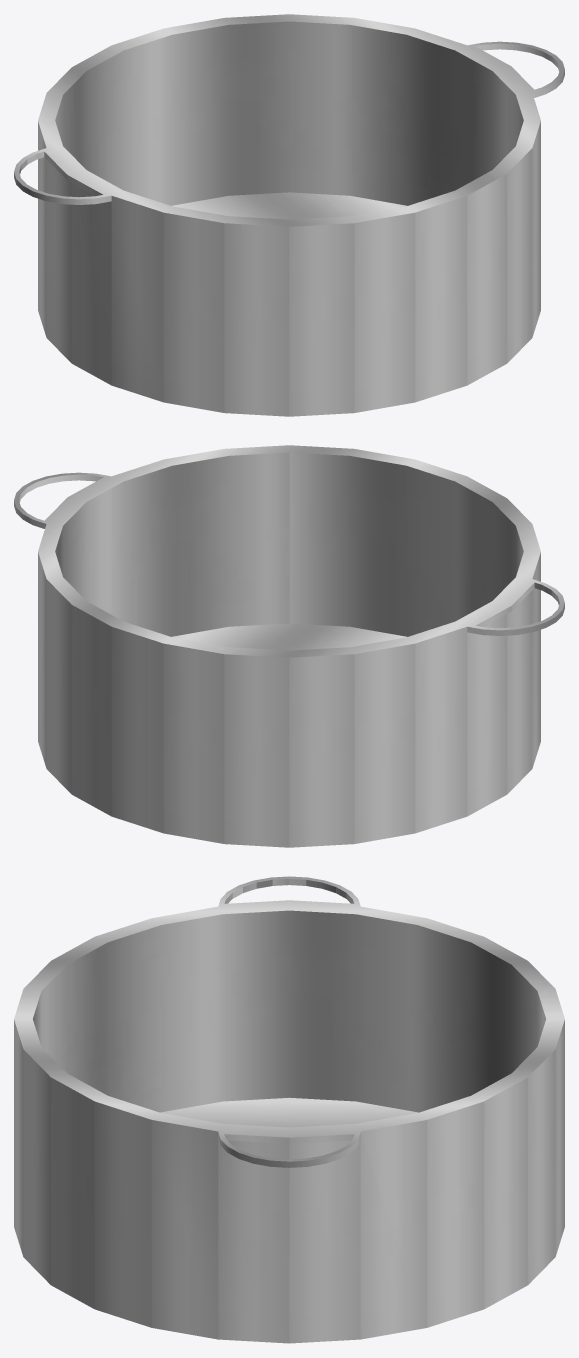
Rendered from pot.min.dae.
The picture shows the model from 3 angles, top to bottom: view 1: azimuth 30°, elevation 25°; view 2: azimuth 150°, elevation 25°; view 3: azimuth 270°, elevation 25°; orthographic projection. The views are drawn at different scales.
Parts seen in each view (by area): view 1: SketchUp (×4); view 2: SketchUp (×4); view 3: SketchUp (×4).
Boxes of the visible parts, x1,y1,x2,y2 form: SketchUp (×4): (14, 14, 564, 416); SketchUp (×4): (14, 445, 564, 847); SketchUp (×4): (14, 876, 564, 1343).
Size of the model in its own units: 5.79 by 4.73 by 1.97.
Materials: 2 (1 with a texture image).
